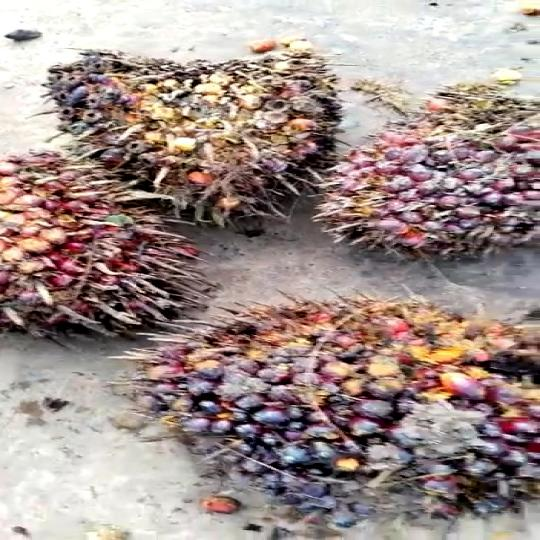masak: (127, 290, 540, 539), (19, 38, 368, 233), (0, 139, 209, 326)
